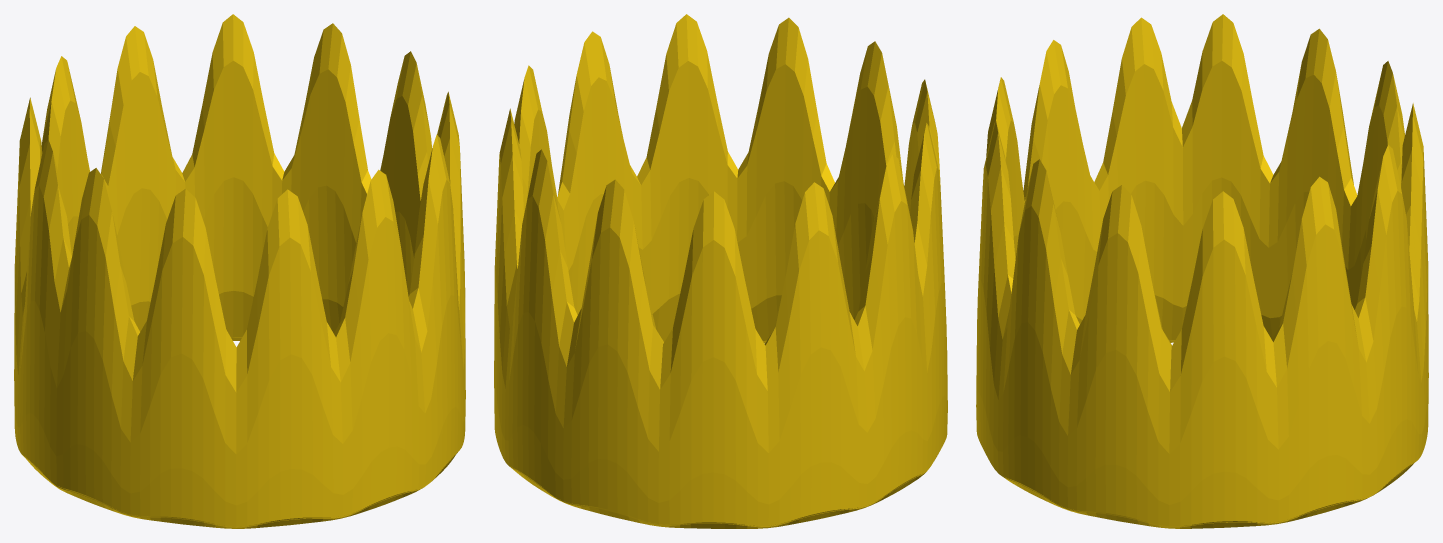
File: crown.fbx
3 renders of one model, left to right at view 1: azimuth 30°, elevation 25°; view 2: azimuth 150°, elevation 25°; view 3: azimuth 270°, elevation 25°, orthographic.
Parts seen in each view (by area): view 1: Cylinder; view 2: Cylinder; view 3: Cylinder.
Part boxes in pixels (<box>): Cylinder: <box>14,14,465,528</box>; Cylinder: <box>494,14,947,528</box>; Cylinder: <box>976,14,1428,528</box>.
Bounding box in the file's own units: 200 × 162 × 200.
